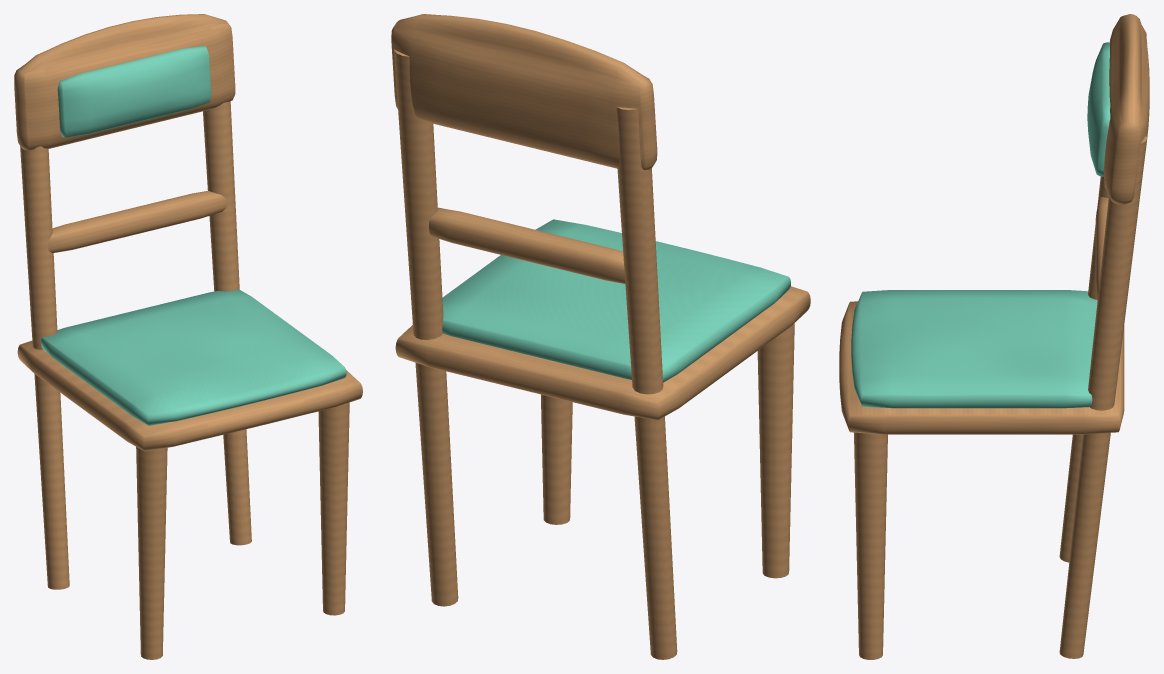
File: 卡通餐椅_薄荷.glb
The picture shows the model from 3 angles, left to right: view 1: azimuth 30°, elevation 25°; view 2: azimuth 150°, elevation 25°; view 3: azimuth 270°, elevation 25°; orthographic projection. The views are drawn at different scales.
Parts seen in each view (by area): view 1: DiningChair_薄荷_Wood, DiningChair_薄荷_Cushion; view 2: DiningChair_薄荷_Wood, DiningChair_薄荷_Cushion; view 3: DiningChair_薄荷_Wood, DiningChair_薄荷_Cushion.
Boxes of the visible parts, <box> form: DiningChair_薄荷_Wood: <box>14,14,362,659</box>; DiningChair_薄荷_Cushion: <box>40,45,346,425</box>; DiningChair_薄荷_Wood: <box>391,14,810,659</box>; DiningChair_薄荷_Cushion: <box>442,219,790,382</box>; DiningChair_薄荷_Wood: <box>839,14,1149,659</box>; DiningChair_薄荷_Cushion: <box>851,42,1110,408</box>.
Size of what is drawn, in the model's own units: 0.42 by 0.9269 by 0.4659.
Materials: 2 (2 with a texture image).
